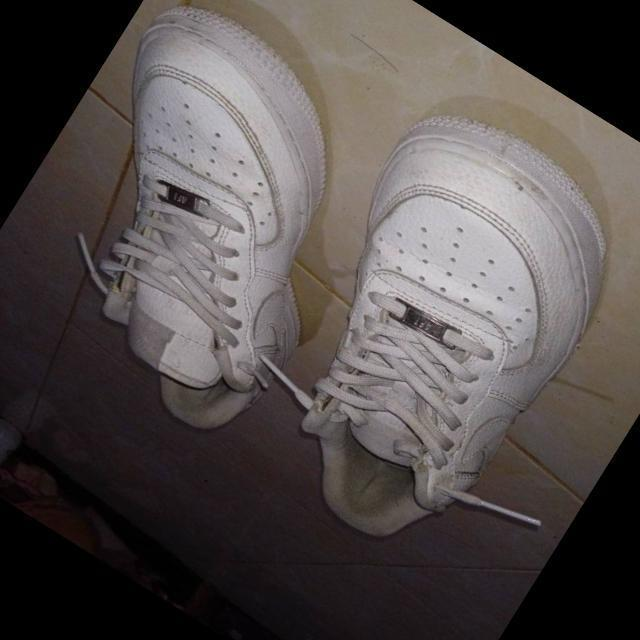nike fake air force: (206, 83, 640, 583), (0, 0, 434, 459)
